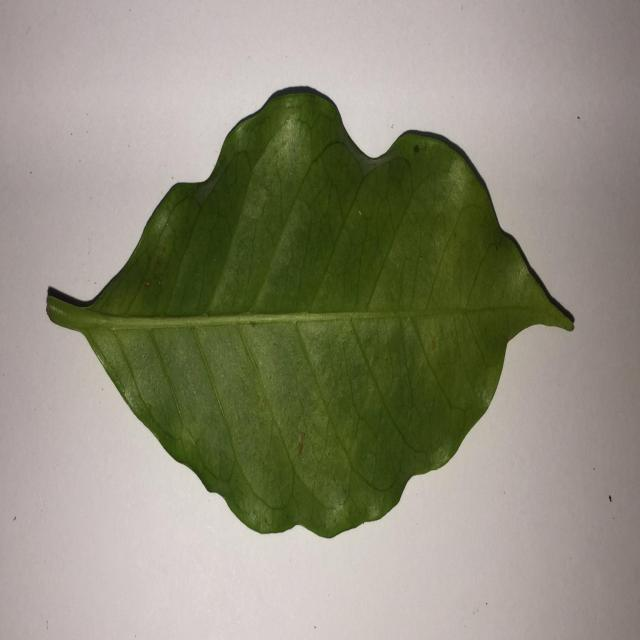nodisease: (47, 87, 574, 538)
